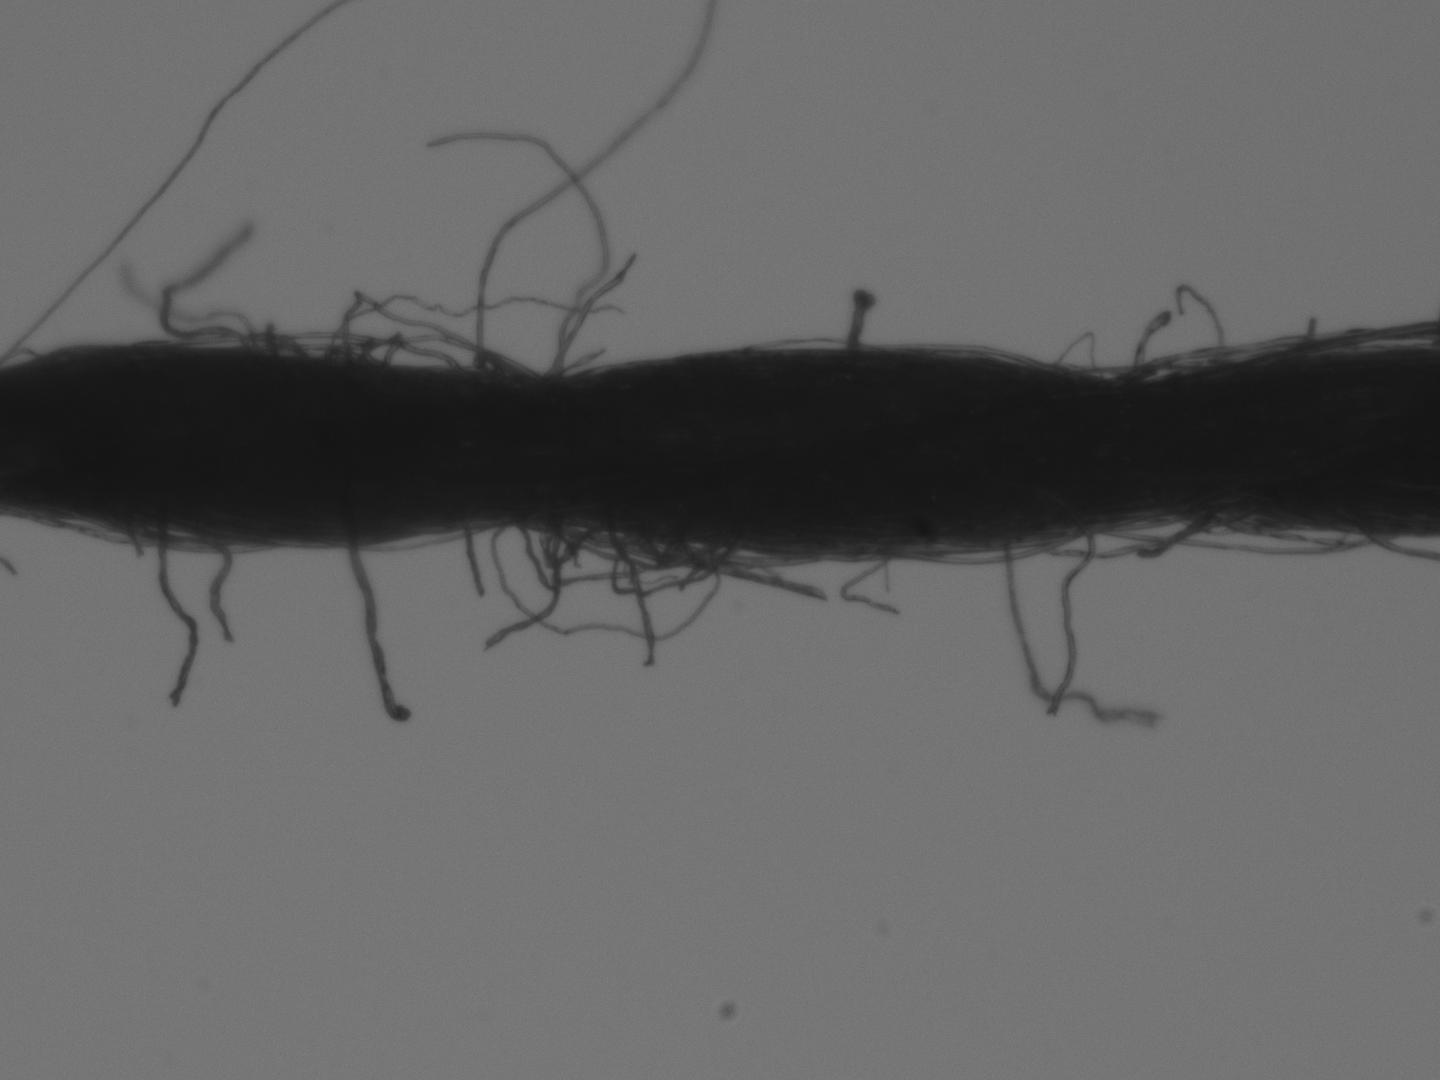loop_fiber: (489, 518, 715, 641), (518, 516, 729, 585), (1103, 513, 1386, 555), (1041, 504, 1228, 559), (608, 524, 732, 598), (1123, 338, 1307, 387), (245, 329, 446, 365), (7, 509, 183, 547), (890, 535, 1050, 565), (540, 514, 610, 568), (357, 341, 463, 369), (1052, 329, 1104, 377), (0, 348, 39, 371), (473, 351, 501, 372)
protruding_fiber: (1, 5, 336, 357), (474, 2, 715, 366), (421, 129, 611, 381), (998, 538, 1153, 726), (1044, 524, 1101, 724), (347, 532, 406, 724), (480, 525, 559, 646), (154, 515, 198, 709), (178, 528, 240, 641), (610, 533, 655, 664), (458, 524, 485, 596), (845, 293, 870, 349)
